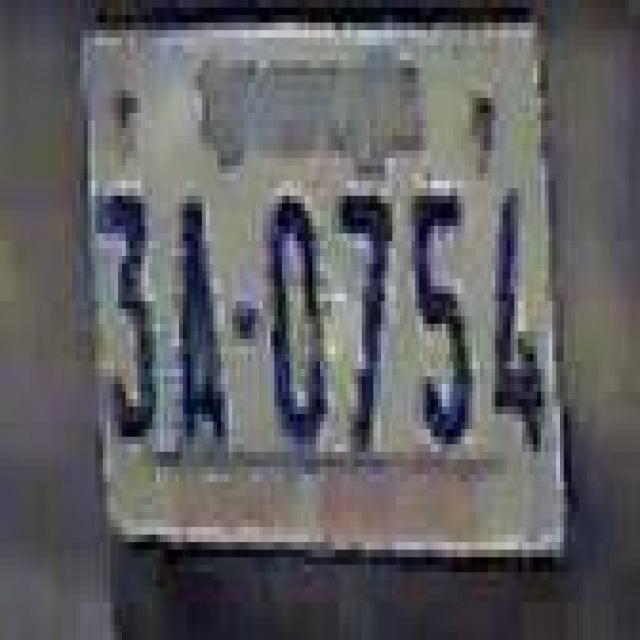Svay_Rieng: (194, 38, 420, 176)
